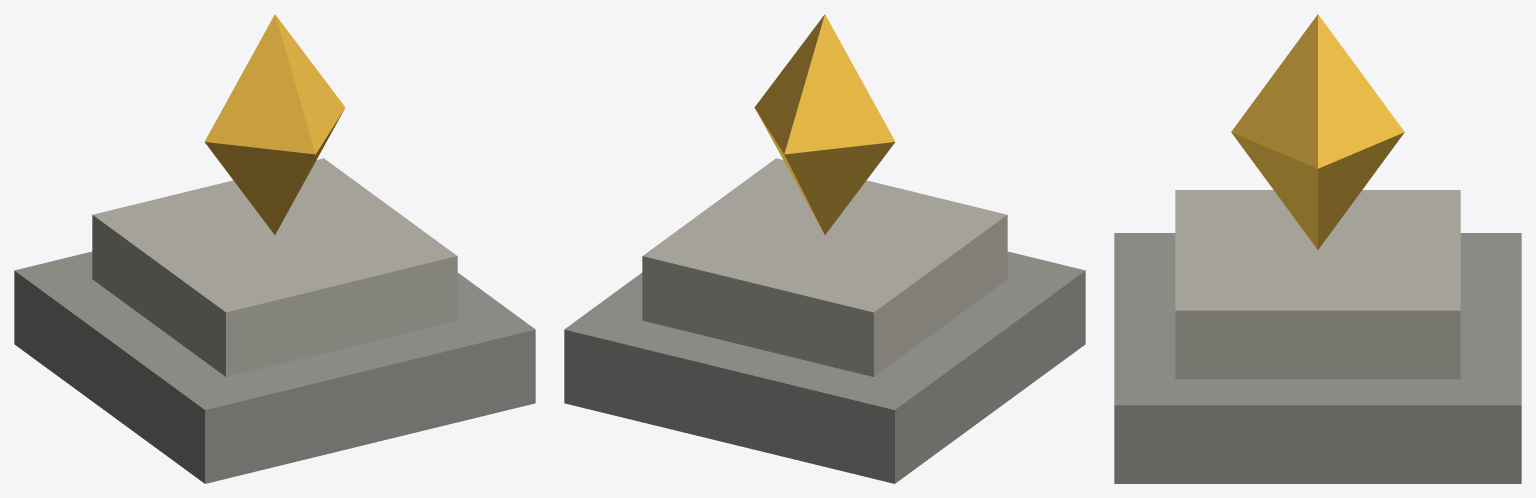
The model's file is relic_altar.glb.
The picture shows the model from 3 angles, left to right: view 1: azimuth 30°, elevation 25°; view 2: azimuth 150°, elevation 25°; view 3: azimuth 270°, elevation 25°; orthographic projection. The views are drawn at different scales.
Parts seen in each view (by area): view 1: relic_altar; view 2: relic_altar; view 3: relic_altar.
Boxes of the visible parts, x1,y1,x2,y2 form: relic_altar: (14, 14, 535, 483); relic_altar: (564, 14, 1085, 483); relic_altar: (1114, 14, 1521, 483).
Size of the model in its own units: 1.5 by 1.56 by 1.5.
